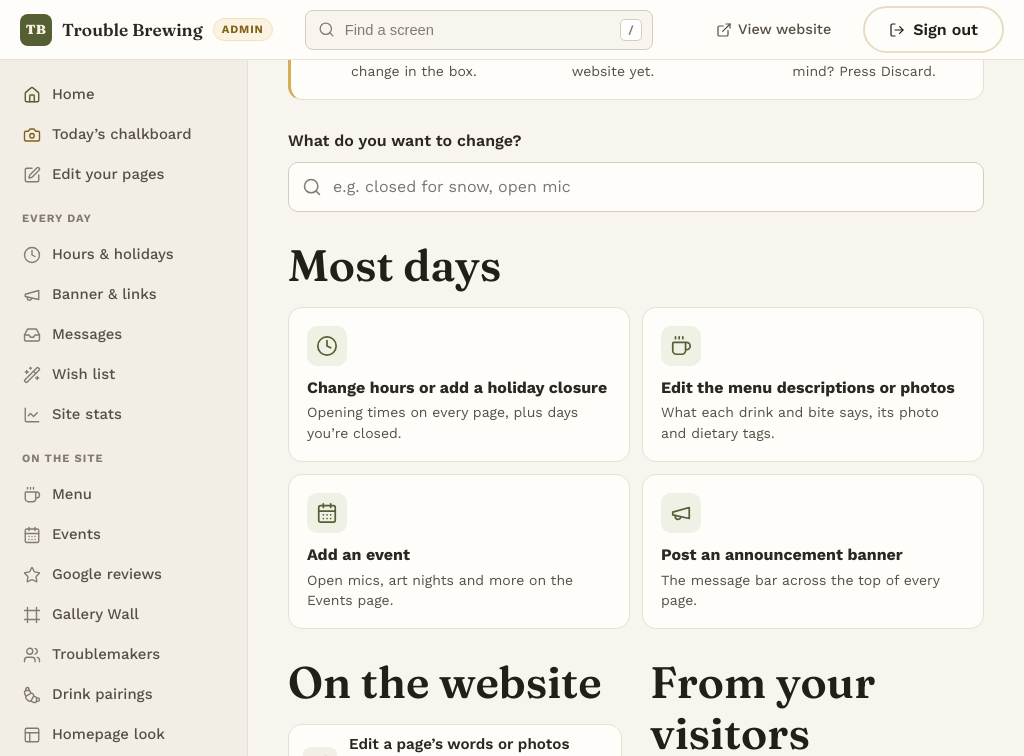
Test: admin home › the "{}" card goes to /admin/menu and says what it changes
(page scrolled)
Click the link "Edit the menu descriptions or photos".
click(813, 384)  # box [642,307,984,462]
(page scrolled)
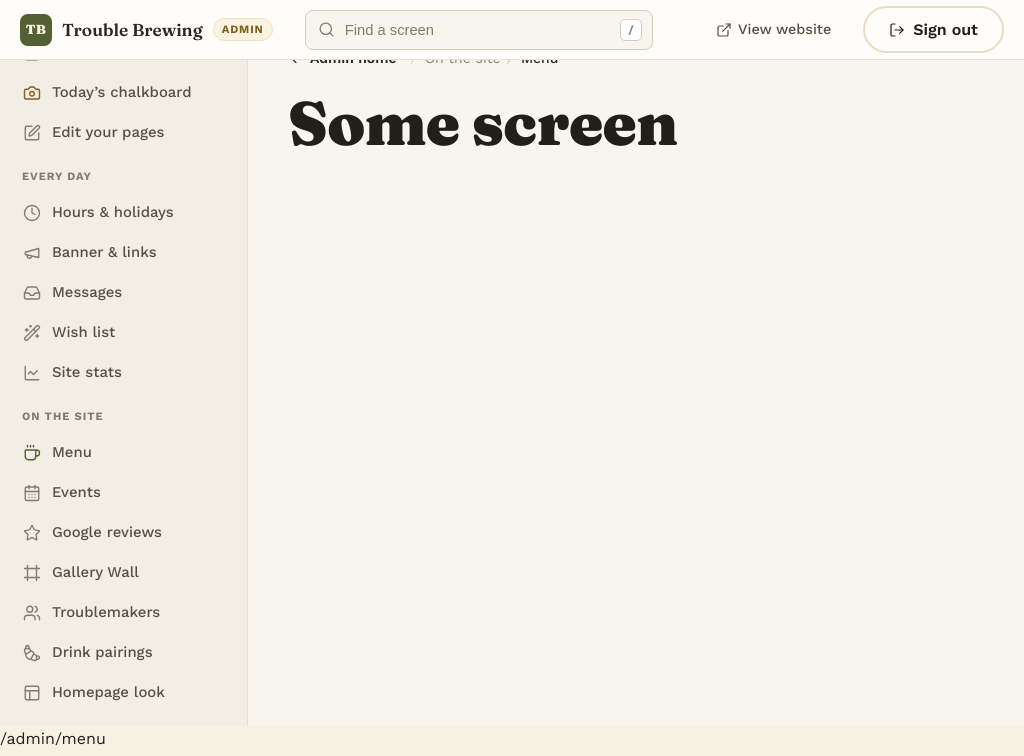
Now the text with test id "where" reads "/admin/menu", box [0,729,106,748]
